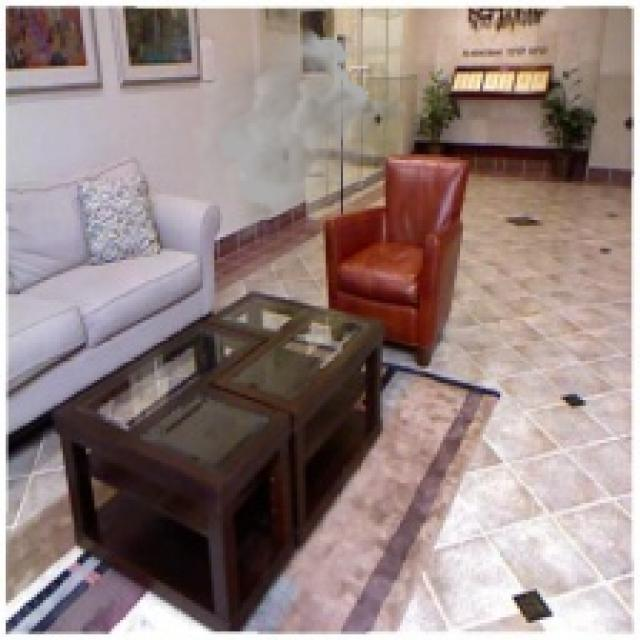Smoke: (188, 26, 412, 243)
